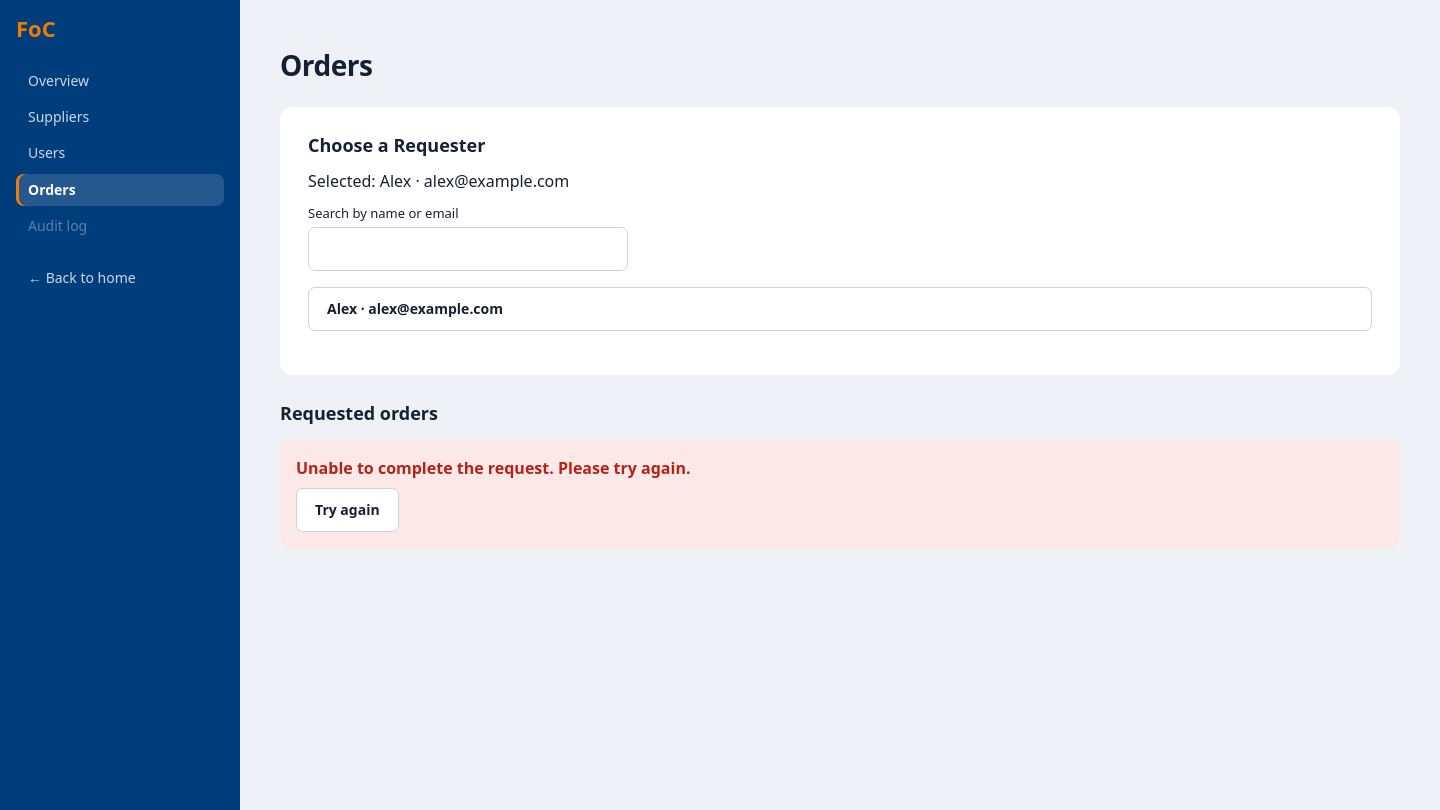
Scenario: loads admin orders independently of Profile and retries an order query failure
Expected: the message shows "Unable to complete the request. Please try again.", 296,457 -> 690,479
Click the button "Try again". click: (347, 510)
box: 296,488 -> 399,532
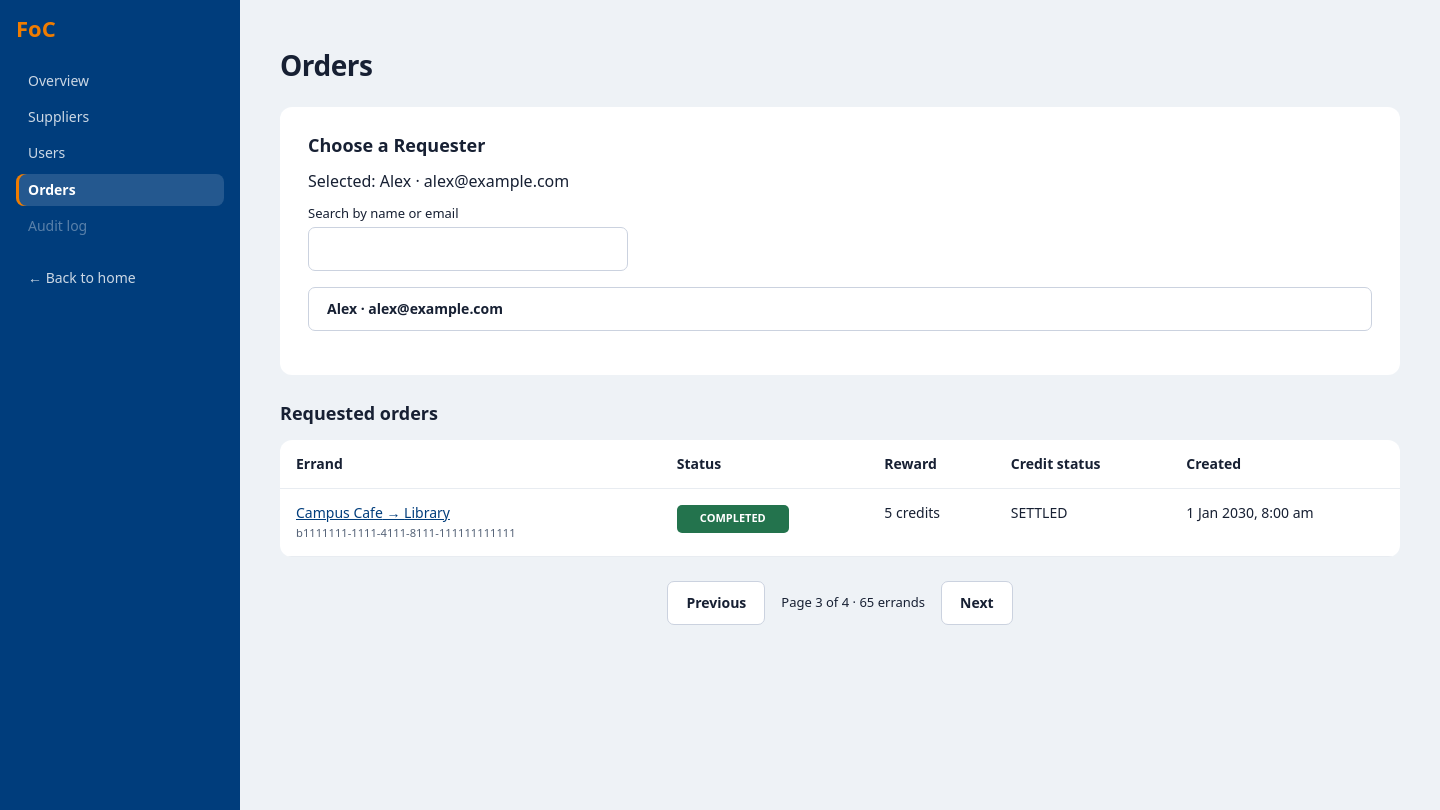
Expected: the link "Campus Cafe → Library" is shown, 296,503 -> 450,522
Expected: the message "Unable to complete the request. Please try again. Try again" is gone
